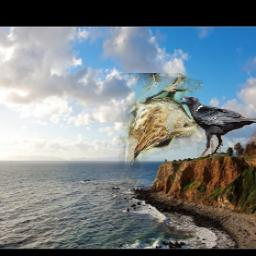Crow: (179, 95, 256, 157)
Sparrow: (115, 74, 203, 189)
